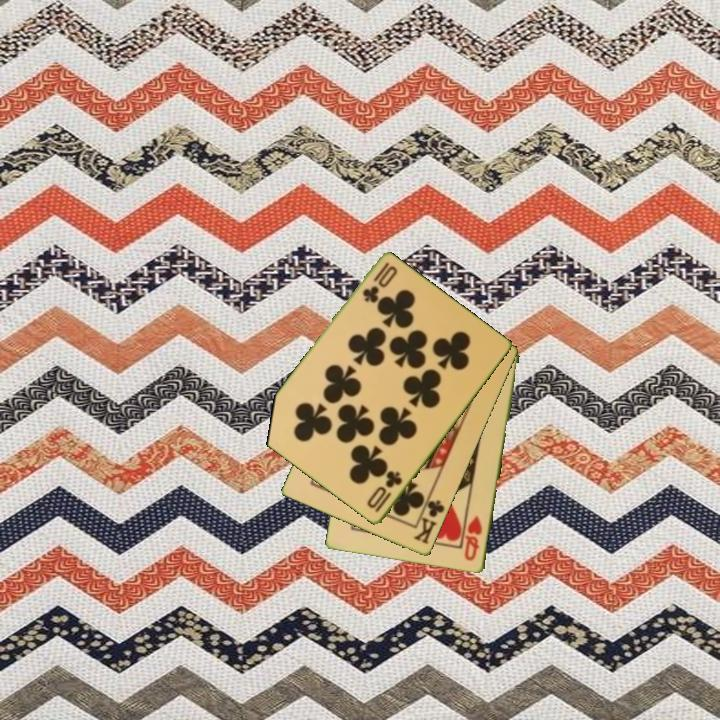10c: (363, 467, 405, 516), (359, 259, 393, 306)
Kc: (410, 491, 448, 547)
Qh: (461, 513, 485, 564)
